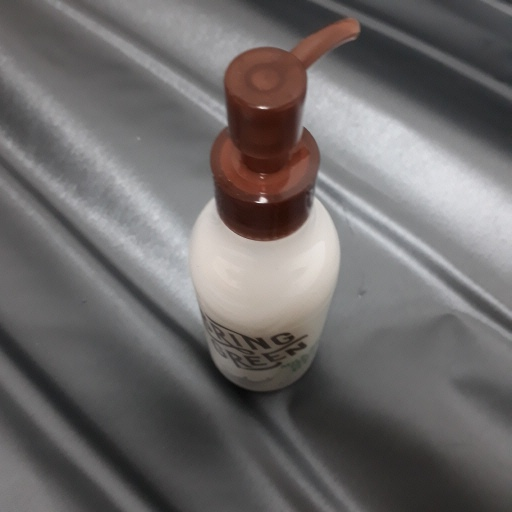Plastic_3: (189, 19, 362, 395)
